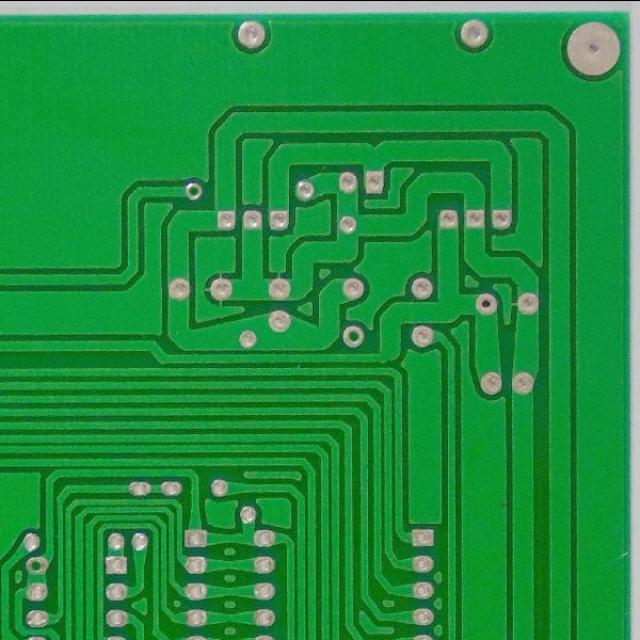missing_hole: (337, 317, 369, 352), (180, 175, 208, 203), (21, 550, 49, 577)
